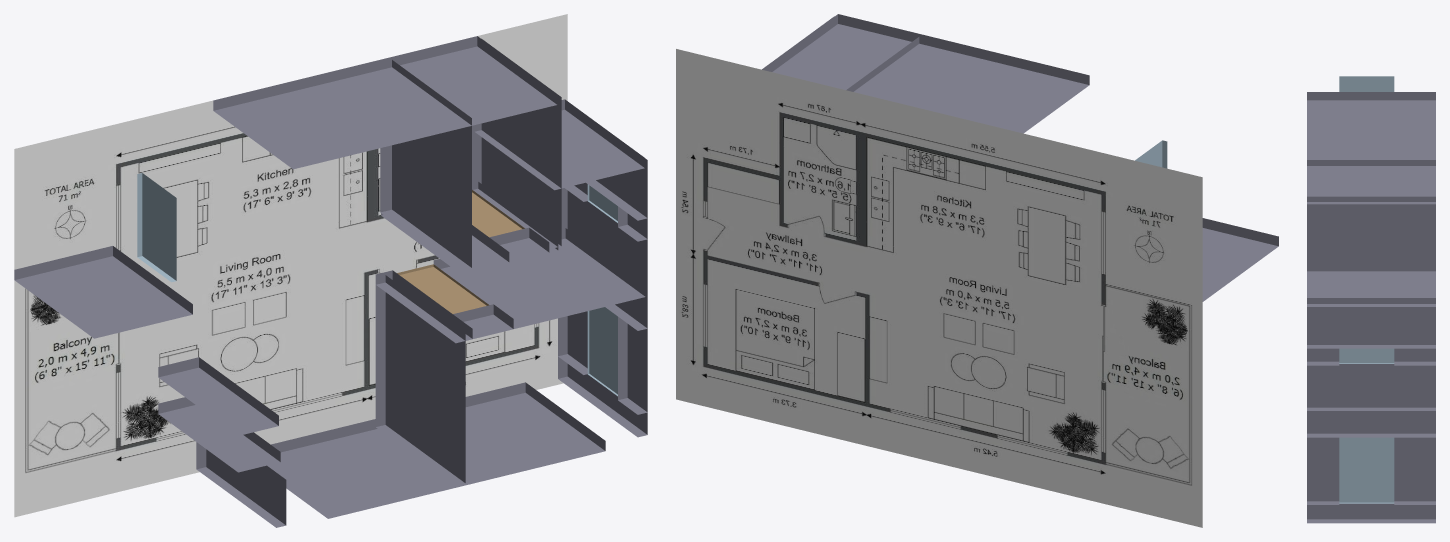
Rendered from floorplan2.gltf.
3 views of the same model, side by side, from view 1: azimuth 30°, elevation 25°; view 2: azimuth 150°, elevation 25°; view 3: azimuth 270°, elevation 25° (orthographic). The views are drawn at different scales.
Visible parts, largest first — view 1: floorplan2, InteriorFloor; view 2: InteriorFloor, floorplan2; view 3: floorplan2.
Boxes of the visible parts, x1=… form: floorplan2: x1=14, y1=36, x2=647, y2=527; InteriorFloor: x1=14, y1=14, x2=567, y2=517; InteriorFloor: x1=676, y1=49, x2=1202, y2=527; floorplan2: x1=762, y1=14, x2=1278, y2=301; floorplan2: x1=1307, y1=76, x2=1435, y2=523.
Size of the model in its own units: 11.19 by 7.12 by 2.8.
Materials: 2 (1 with a texture image).
